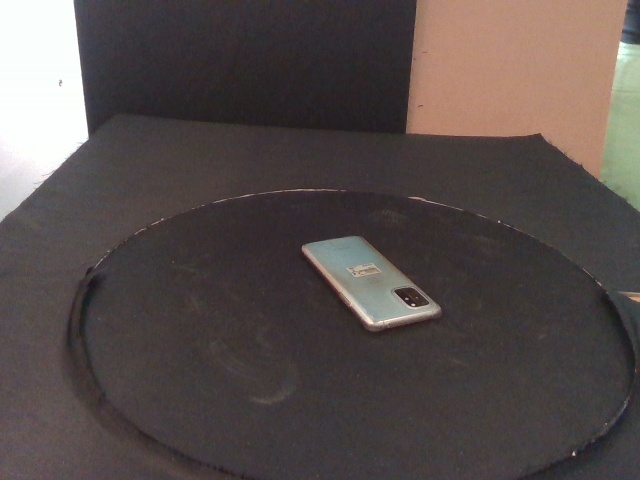phone: (300, 234, 444, 333)
